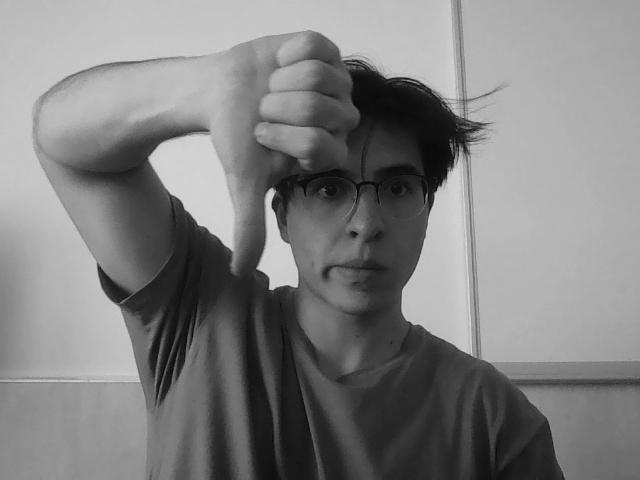bad: (207, 34, 364, 282)
